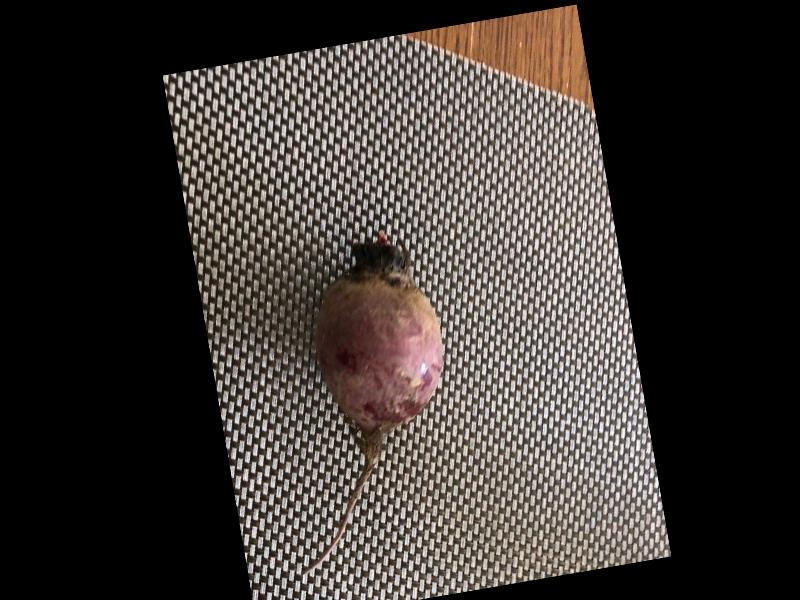Beet: (247, 223, 476, 576)
